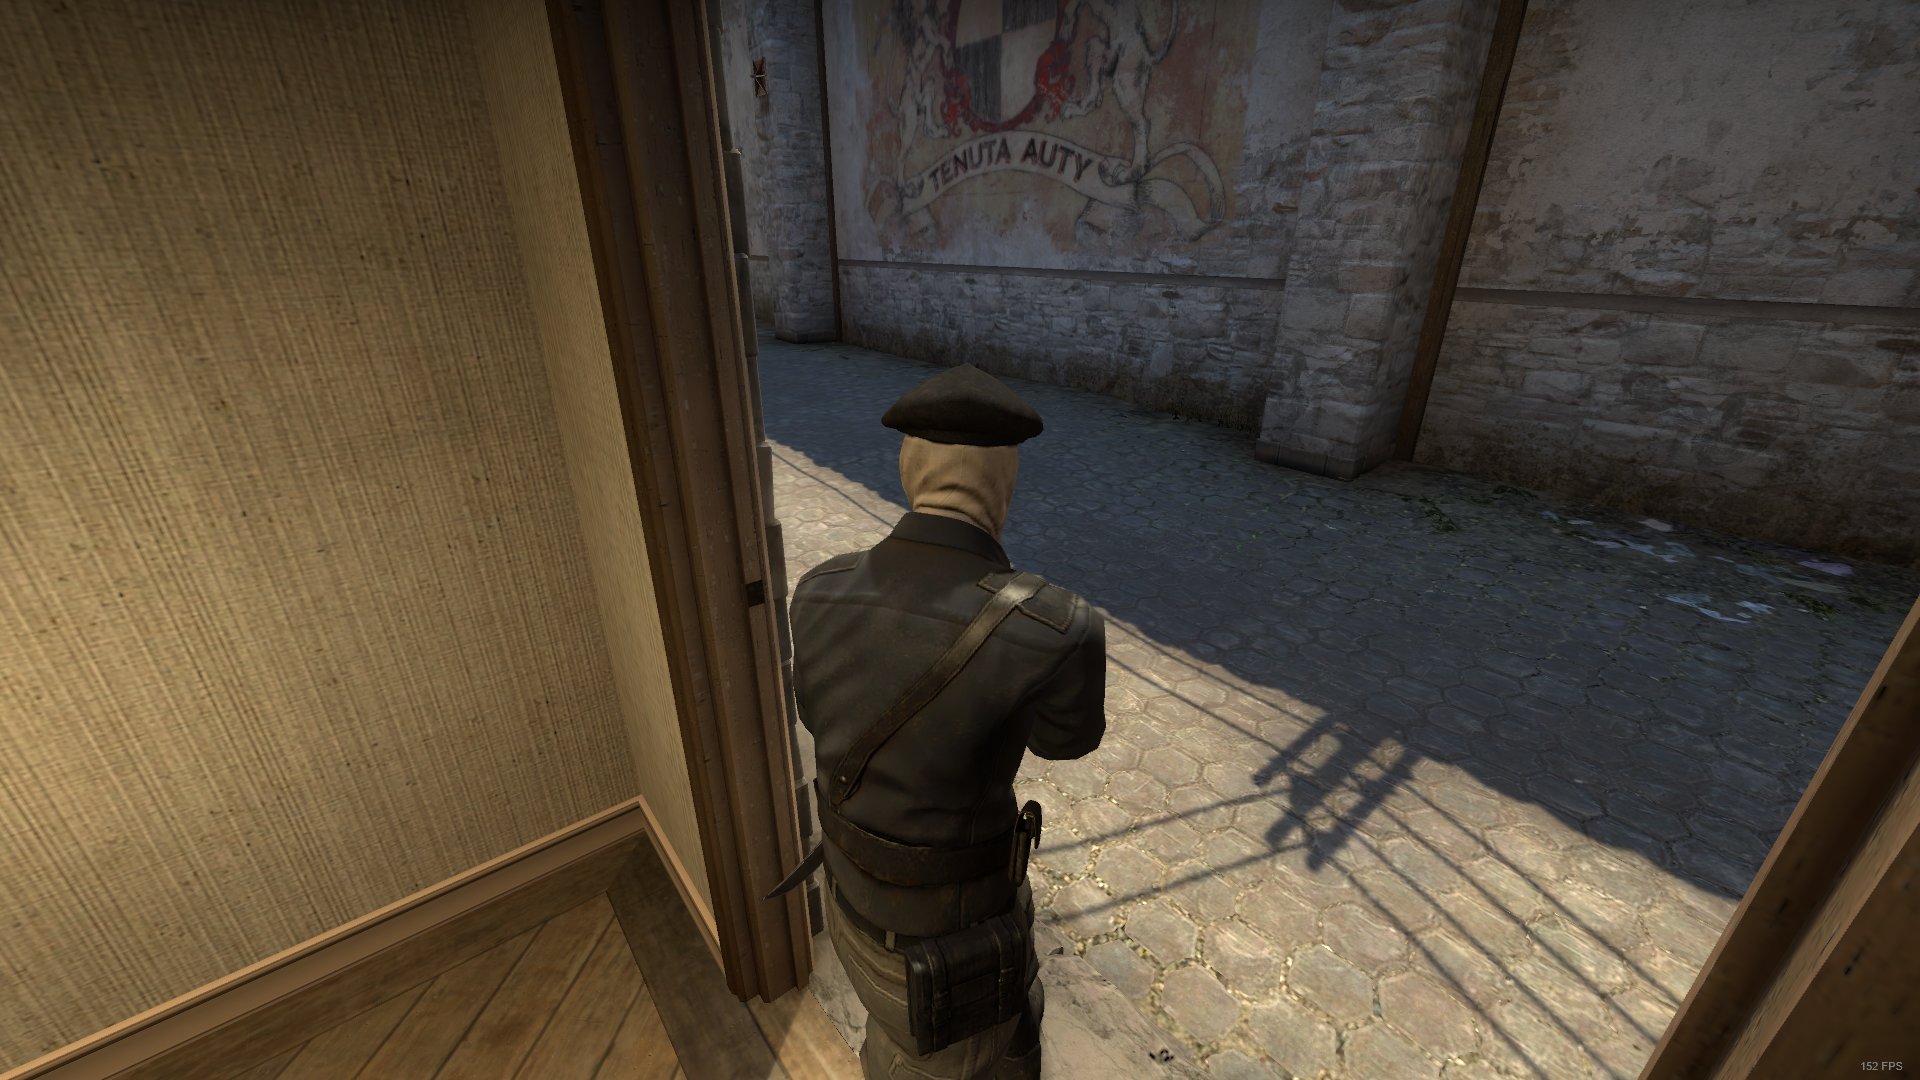t: (753, 347, 1135, 1080)
